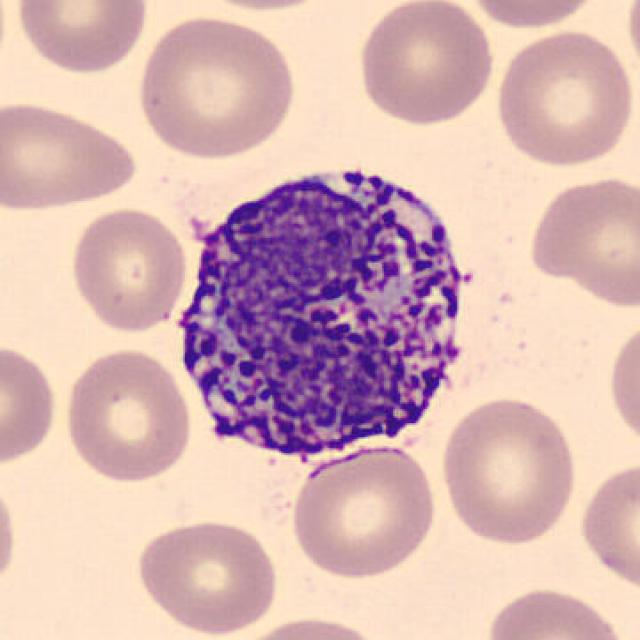Basophil: (157, 143, 487, 483)
RBC: (133, 11, 299, 162), (438, 393, 580, 548), (286, 442, 441, 582), (491, 25, 636, 171), (58, 344, 194, 485), (354, 0, 498, 129), (132, 515, 282, 638), (0, 95, 142, 215), (66, 203, 190, 335), (524, 171, 638, 309), (11, 0, 153, 78), (574, 457, 640, 596), (480, 583, 631, 640), (0, 336, 60, 470), (604, 316, 640, 453), (464, 0, 608, 32), (229, 612, 391, 640), (0, 467, 21, 601), (183, 0, 340, 14), (624, 0, 640, 88)
